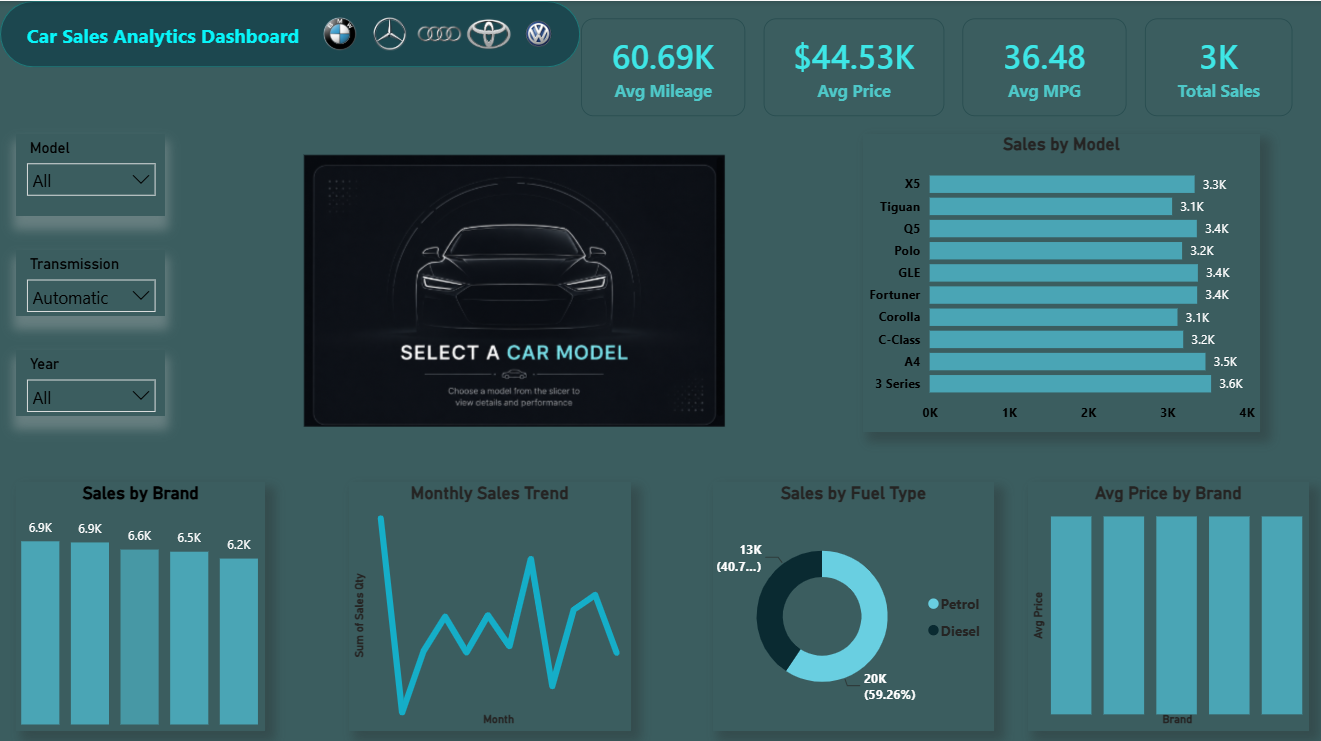

What the dashboard file says about the page in this screenshot:
{"tool":"powerbi","page":{"name":"Page 1","canvas":[1280,720],"ordinal":0},"visuals":[{"type":"slicer","fields":{"Values":["CarSales.Transmission"]},"box":[16,240,144,64],"z":0},{"type":"slicer","fields":{"Values":["CarSales.Year"]},"box":[16,336,144,64],"z":1000},{"type":"cardVisual","fields":{"Data":["Cars.Avg Mileage"]},"box":[544,0,192,128],"z":2000},{"type":"cardVisual","fields":{"Data":["Cars.Avg MPG"]},"box":[912,0,192,128],"z":3000},{"type":"cardVisual","fields":{"Data":["Car Images.Total Sales"]},"box":[1088,0,176,128],"z":4000},{"type":"cardVisual","fields":{"Data":["Cars.Avg Price"]},"box":[720,0,208,128],"z":5000},{"type":"clusteredColumnChart","title":"Sales by Brand","fields":{"Y":["Sum(Cars.Sales Qty)"],"Category":["Cars.Brand"]},"box":[16,464,240,240],"z":6000},{"type":"slicer","fields":{"Values":["Car Images.Model"]},"box":[16,128,144,80],"z":7000},{"type":"clusteredBarChart","title":"Sales by Model","fields":{"Y":["Sum(Cars.Sales Qty)"],"Category":["Cars.Model"]},"box":[832,128,384,288],"z":8000},{"type":"donutChart","title":"Sales by Fuel Type","fields":{"Category":["Cars.Fuel Type"],"Y":["Sum(Cars.Sales Qty)"]},"box":[688,464,272,240],"z":9000},{"type":"lineChart","title":"Monthly Sales Trend","fields":{"Category":["Cars.Sale Date.Variation.Date Hierarchy.Month"],"Y":["Sum(Cars.Sales Qty)"]},"box":[336,464,272,240],"z":10000},{"type":"hundredPercentStackedColumnChart","fields":{"Category":["Cars.Brand"],"Y":["Cars.Avg Price"]},"box":[992,464,272,240],"z":11000},{"type":"shape","box":[0,0,560,64],"z":12000},{"type":"image","box":[400,16,48,32],"z":13000},{"type":"image","box":[304,16,48,32],"z":14000},{"type":"image","box":[352,16,48,32],"z":15000},{"type":"image","box":[448,16,48,32],"z":16000},{"type":"image","box":[496,16,48,32],"z":17000},{"type":"STANDALONEhtmlContent443BE3AD55E043BF878BED274D3A6855","fields":{"content":["Car Images.Car Image HTML"]},"box":[288,144,416,272],"z":18000},{"type":"textbox","box":[0,16,320,48],"z":19000}]}

Visuals, with their boxes in screenshot pixels (x1, y1, x2, y2), scaled from the page's 1280x720 canvas onto the 1321x741 screenshot:
slicer - CarSales.Transmission: select_region(17, 247, 165, 313)
slicer - CarSales.Year: select_region(17, 346, 165, 412)
cardVisual - Cars.Avg Mileage: select_region(561, 0, 760, 132)
cardVisual - Cars.Avg MPG: select_region(941, 0, 1139, 132)
cardVisual - Car Images.Total Sales: select_region(1123, 0, 1304, 132)
cardVisual - Cars.Avg Price: select_region(743, 0, 958, 132)
"Sales by Brand" clusteredColumnChart: select_region(17, 478, 264, 725)
slicer - Car Images.Model: select_region(17, 132, 165, 214)
"Sales by Model" clusteredBarChart: select_region(859, 132, 1255, 428)
"Sales by Fuel Type" donutChart: select_region(710, 478, 991, 725)
"Monthly Sales Trend" lineChart: select_region(347, 478, 627, 725)
hundredPercentStackedColumnChart - Cars.Brand x Cars.Avg Price: select_region(1024, 478, 1304, 725)
shape: select_region(0, 0, 578, 66)
image: select_region(413, 16, 462, 49)
image: select_region(314, 16, 363, 49)
image: select_region(363, 16, 413, 49)
image: select_region(462, 16, 512, 49)
image: select_region(512, 16, 561, 49)
STANDALONEhtmlContent443BE3AD55E043BF878BED274D3A6855 - Car Images.Car Image HTML: select_region(297, 148, 727, 428)
textbox: select_region(0, 16, 330, 66)
